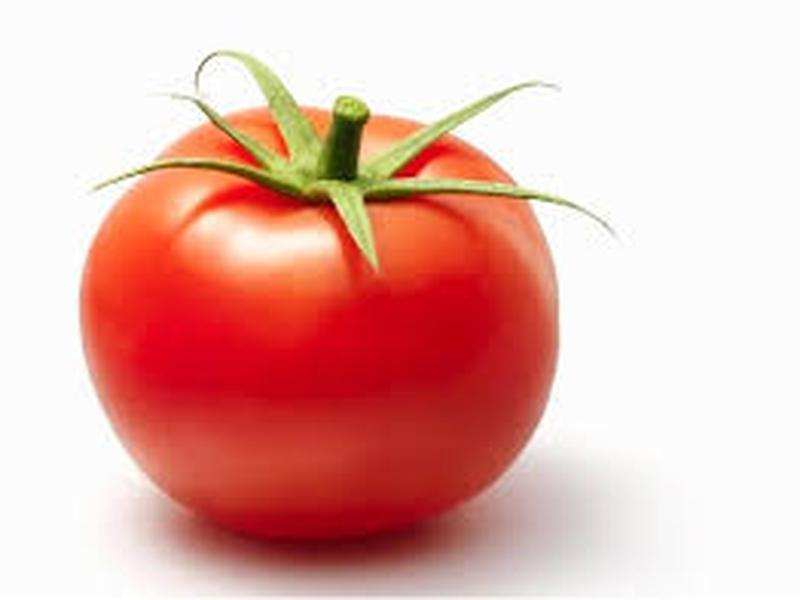full_tomato: (70, 42, 623, 587)
